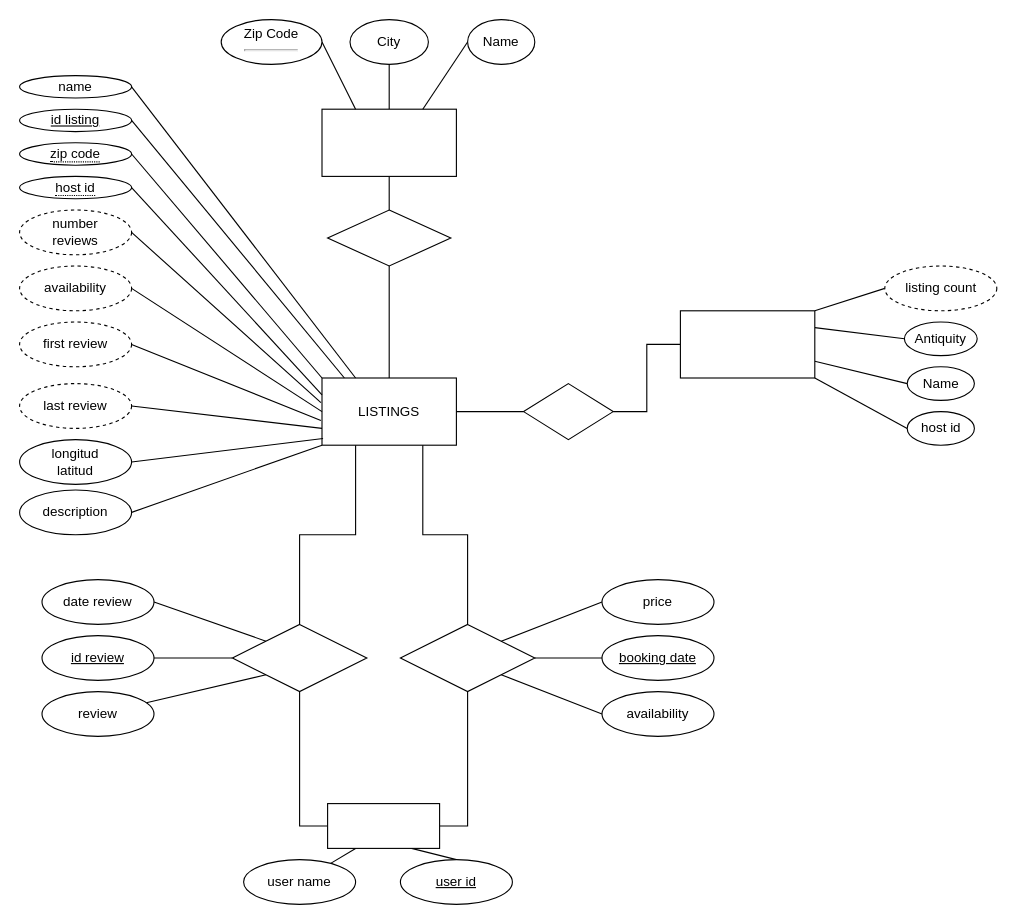
Some shapes in this 1017 by 924 pixel diagram are drawn without their labels. Each missing label, with the centre of its shape:
COMMENT: point 299,657
FIND: point 388,237
HOST: point 747,344
LIST: point 567,411
NEIGHBOURHOOD: point 388,142
RESERVE: point 467,657
USUARIOS: point 383,825
